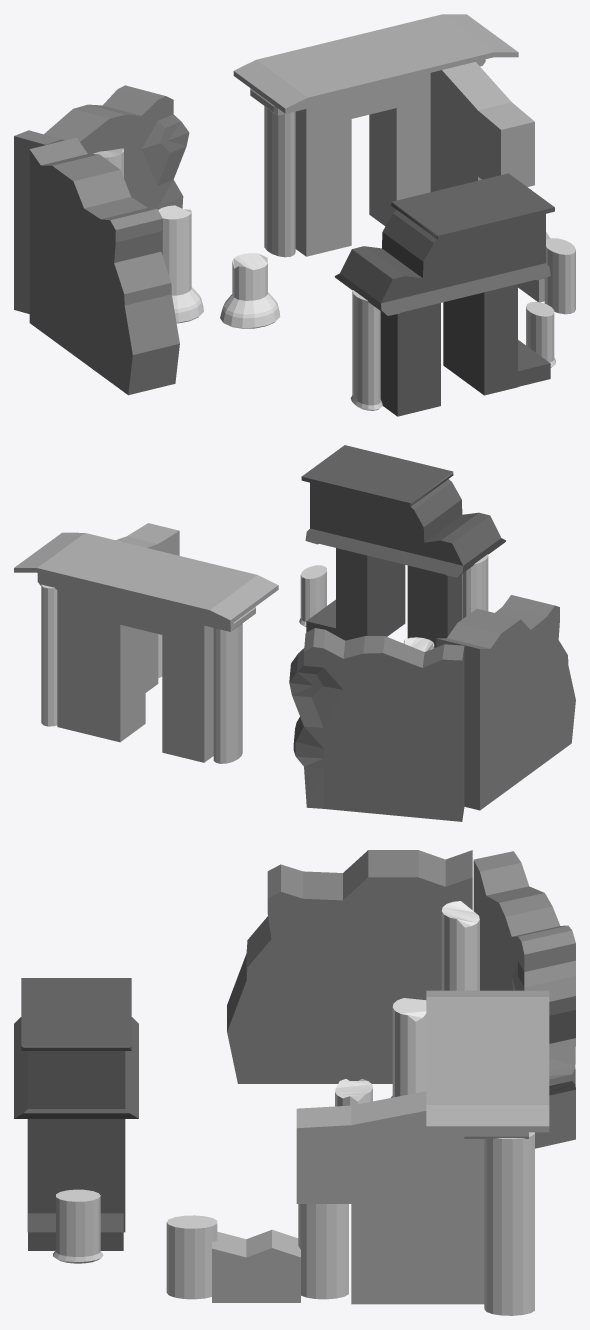
File: SM_Prop_Ruins.fbx
The picture shows the model from 3 angles, top to bottom: view 1: azimuth 30°, elevation 25°; view 2: azimuth 150°, elevation 25°; view 3: azimuth 270°, elevation 25°; orthographic projection. The views are drawn at different scales.
Parts seen in each view (by area): view 1: SM_Prop_Ruins; view 2: SM_Prop_Ruins; view 3: SM_Prop_Ruins.
Boxes of the visible parts, box(x1,y1,x2,y2) form: SM_Prop_Ruins: box(14, 14, 575, 416); SM_Prop_Ruins: box(14, 445, 575, 821); SM_Prop_Ruins: box(14, 850, 575, 1315).
Bounding box in the file's own units: 942 × 340 × 822.
